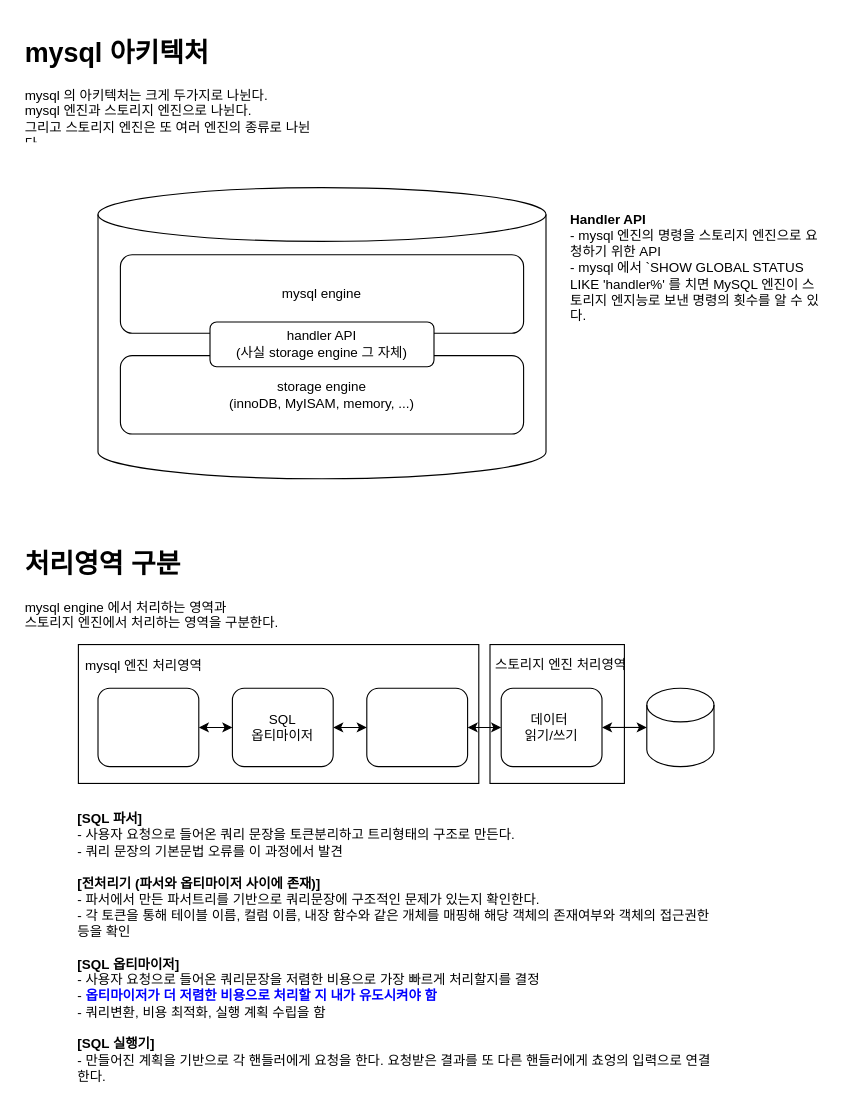
The diagram is 844 pixels wide and 1113 high, and some of its shapes have lost their labels. The centre of each missing label's shape, as x and y in pixels:
disk: (x=680, y=727)
SQL 실행기: (x=417, y=727)
SQL 파서: (x=148, y=727)
